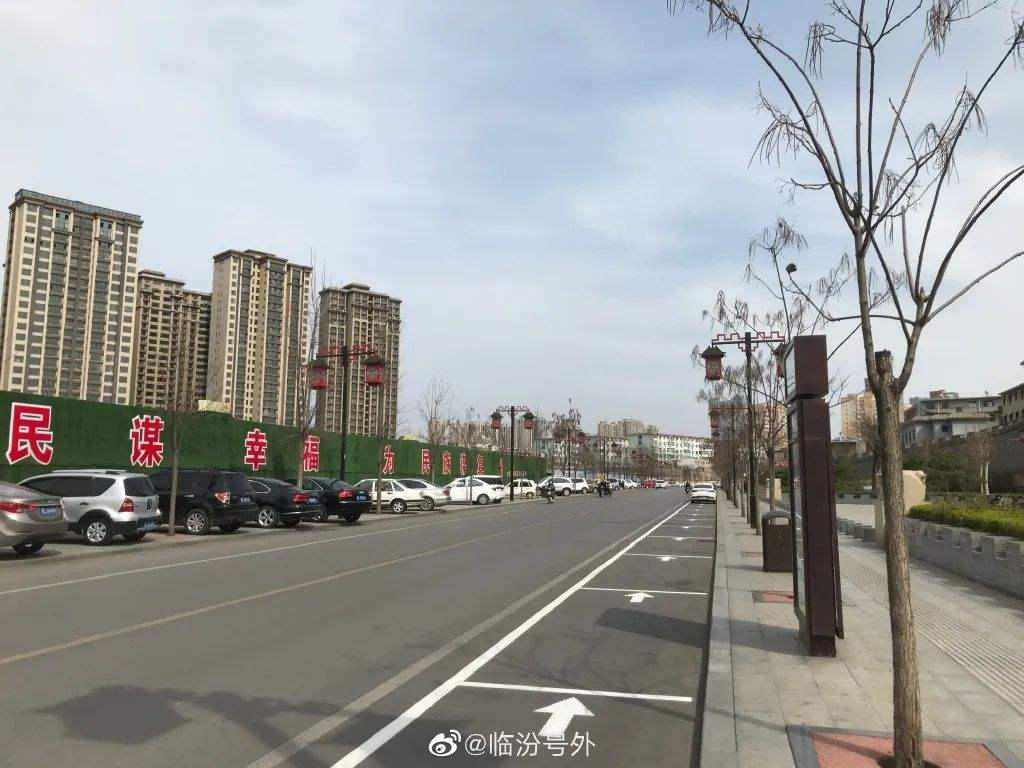slot_nocar: (427, 560, 721, 716), (354, 665, 726, 768), (534, 545, 728, 607), (621, 524, 730, 569), (654, 484, 721, 539)
